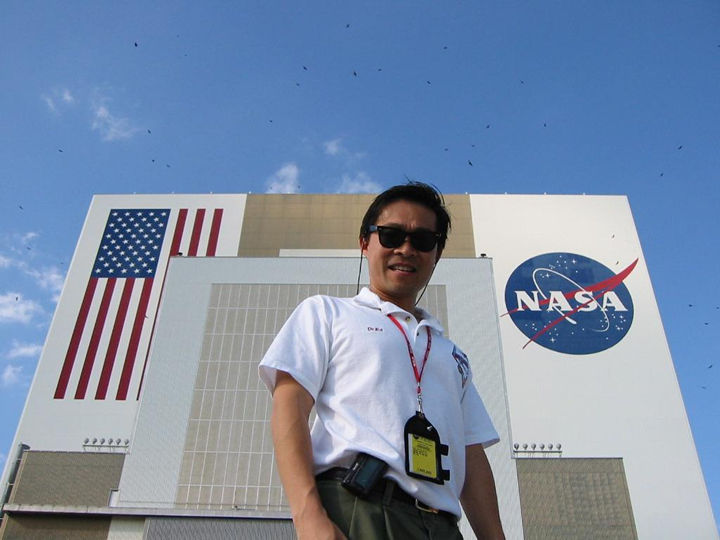NASA: (498, 248, 638, 357)
